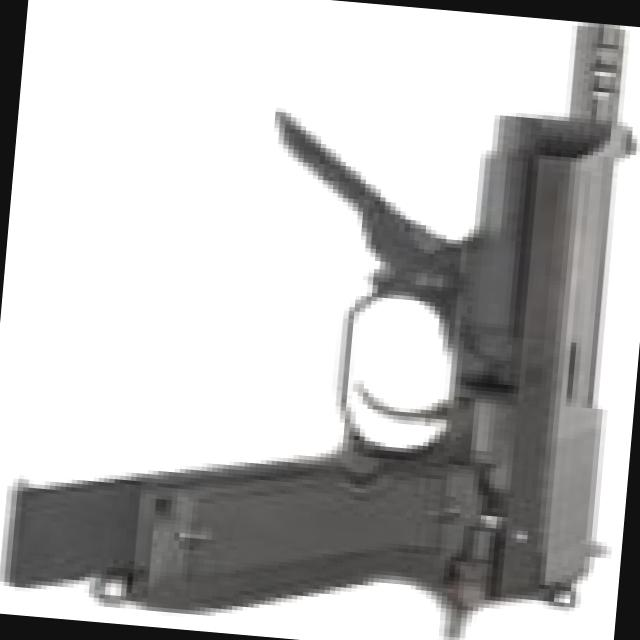handgun: (113, 69, 639, 639)
